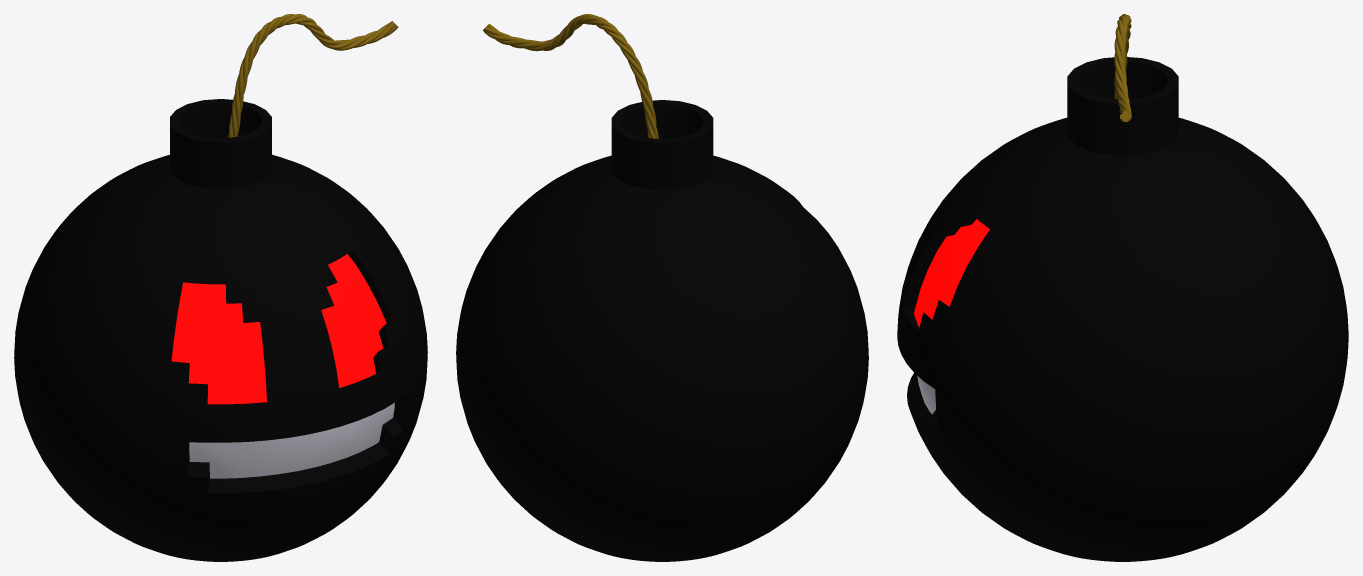
Rendered from smiley_bomb_texture.glb.
3 views of the same model, side by side, from view 1: azimuth 30°, elevation 25°; view 2: azimuth 150°, elevation 25°; view 3: azimuth 270°, elevation 25° (orthographic). The views are drawn at different scales.
Visible parts, largest first — view 1: Sphere001, Cylinder004; view 2: Sphere001, Cylinder004; view 3: Sphere001, Cylinder004.
Part boxes in pixels (box(x1,y1,x2,y2)): Sphere001: box(14, 99, 427, 561); Cylinder004: box(227, 14, 398, 137); Sphere001: box(456, 100, 868, 561); Cylinder004: box(483, 14, 658, 138); Sphere001: box(897, 57, 1348, 561); Cylinder004: box(1114, 14, 1131, 122).
Bounding box in the file's own units: 0.8 × 1.09 × 0.8.
